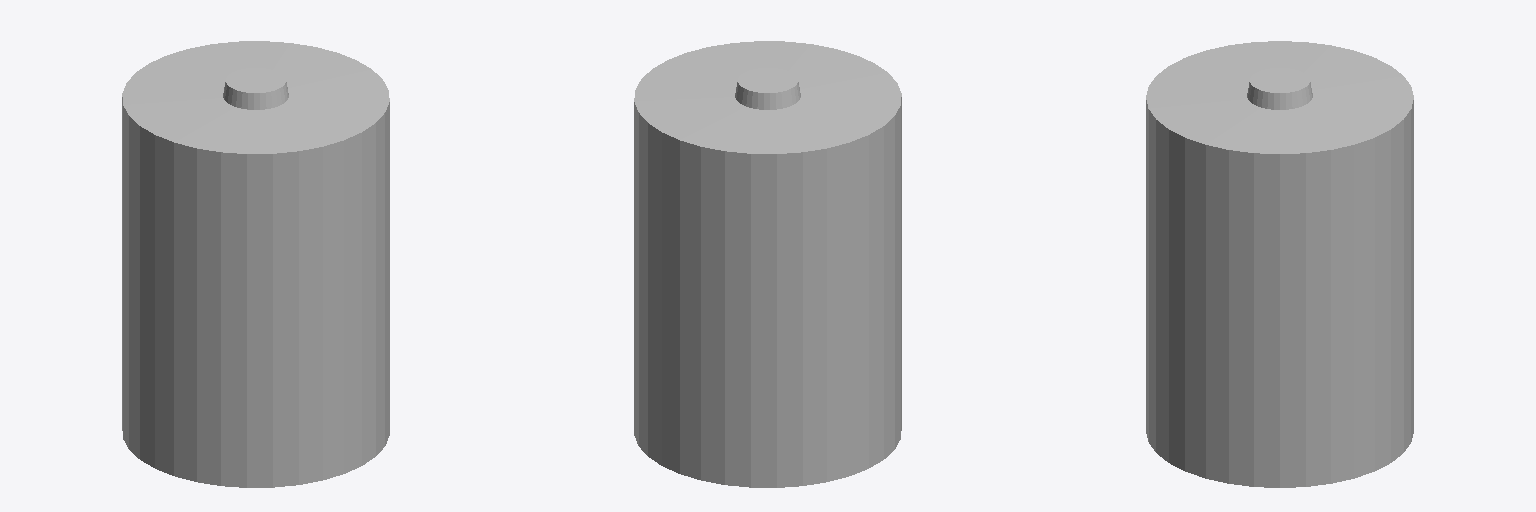
File: Battery.obj
3 renders of one model, left to right at view 1: azimuth 30°, elevation 25°; view 2: azimuth 150°, elevation 25°; view 3: azimuth 270°, elevation 25°, orthographic.
Visible parts, largest first — view 1: Cylinder; view 2: Cylinder; view 3: Cylinder.
Boxes of the visible parts, x1,y1,x2,y2 form: Cylinder: [122, 41, 389, 487]; Cylinder: [634, 41, 901, 487]; Cylinder: [1146, 41, 1413, 487].
Bounding box in the file's own units: 2 × 2.89 × 2.